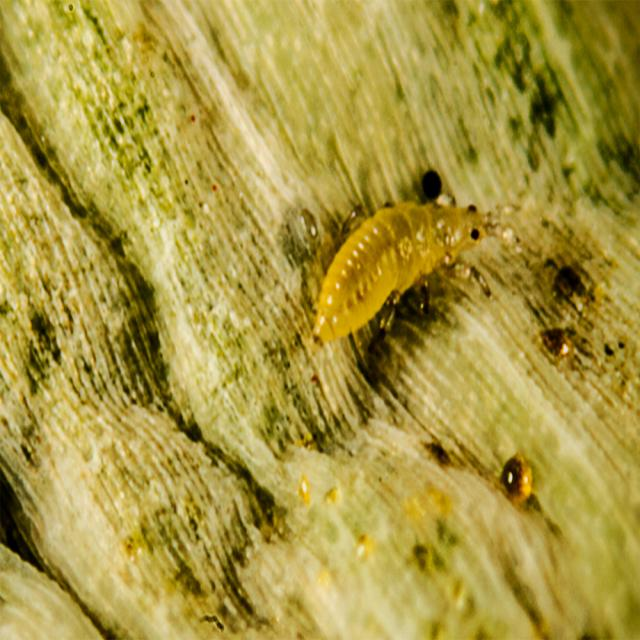Thrip-Larva-: (300, 193, 518, 354)
